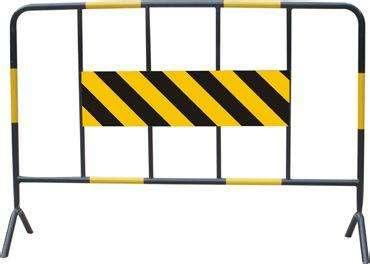sign: (3, 3, 370, 264)
